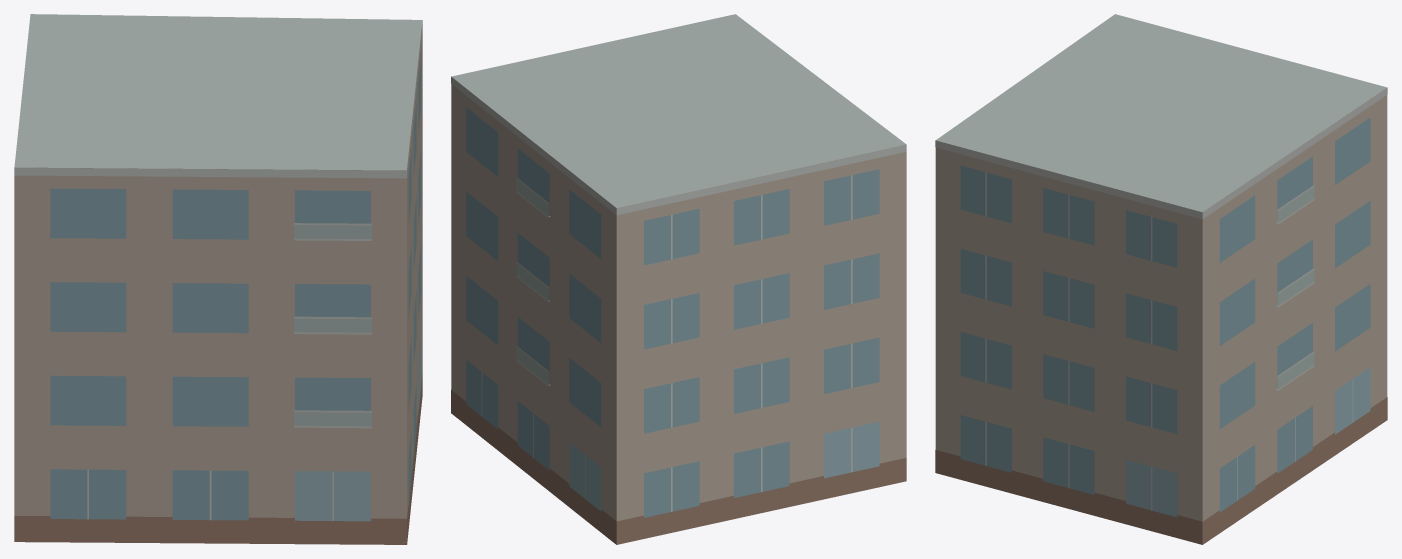
Rendered from survey-upis-32775907.glb.
3 views of the same model, side by side, from view 1: azimuth 30°, elevation 25°; view 2: azimuth 150°, elevation 25°; view 3: azimuth 270°, elevation 25° (orthographic). The views are drawn at different scales.
Parts seen in each view (by area): view 1: survey-upis-32775907.tmp; view 2: survey-upis-32775907.tmp; view 3: survey-upis-32775907.tmp.
Part boxes in pixels (left/top/right/bottom): survey-upis-32775907.tmp: left=14, top=14, right=422, bottom=544; survey-upis-32775907.tmp: left=451, top=14, right=906, bottom=544; survey-upis-32775907.tmp: left=935, top=14, right=1387, bottom=544.
Size of the model in its own units: 14.67 by 11.47 by 14.13.
